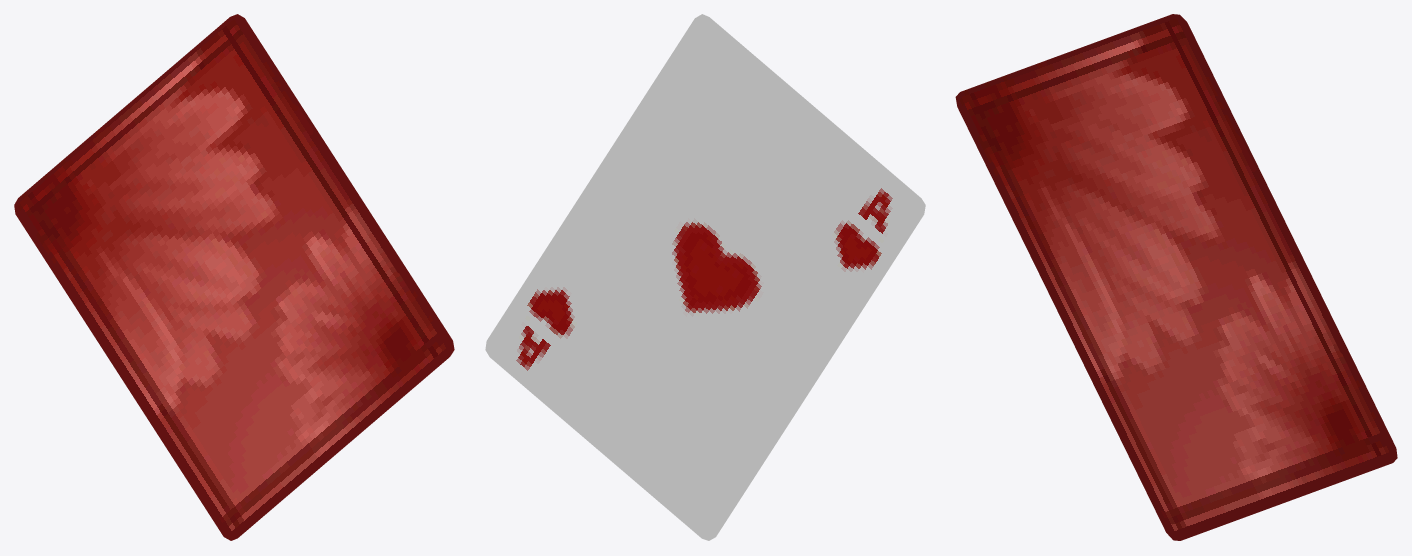
File: ps2_save-icons_tennisnooujisamaloveofprincesweet.glb
The picture shows the model from 3 angles, left to right: view 1: azimuth 30°, elevation 25°; view 2: azimuth 150°, elevation 25°; view 3: azimuth 330°, elevation 25°; orthographic projection.
Visible parts, largest first — view 1: icon.ico; view 2: icon.ico; view 3: icon.ico.
Part boxes in pixels (left/top/right/bottom): icon.ico: left=14, top=14, right=454, bottom=540; icon.ico: left=485, top=14, right=925, bottom=540; icon.ico: left=955, top=14, right=1397, bottom=540.
Size of the model in its own units: 4.34 by 4.95 by 0.0239.
1 material, 1 textured.
